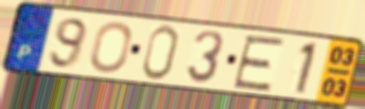0: (141, 23, 181, 83)
1: (293, 40, 320, 96)
3: (184, 28, 225, 86)
9: (47, 16, 91, 69)
E: (229, 34, 288, 93)
O: (88, 20, 134, 74)
